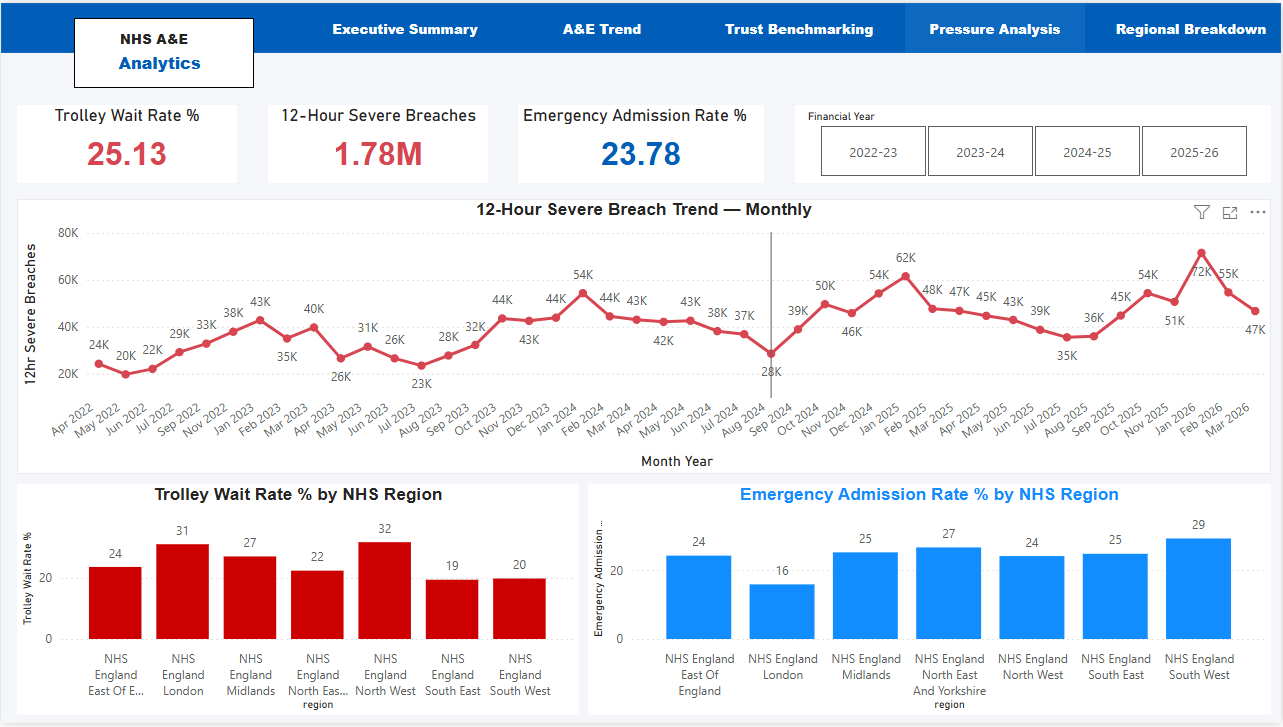

The dashboard page shown, as its layout file describes it:
{"tool":"powerbi","page":{"name":"Pressure Analysis","canvas":[1280,720],"ordinal":3},"visuals":[{"type":"shape","box":[0,0,1280,50],"z":0},{"type":"actionButton","title":"Executive Summary","box":[314,0,180,50],"z":1000},{"type":"shape","box":[73,15,180,70],"z":1000,"group":"g1"},{"type":"actionButton","box":[1100,0,180,50],"z":2000},{"type":"textbox","box":[114,21,90,29],"z":2000,"group":"g1"},{"type":"actionButton","box":[903.5,0,180,50],"z":3000},{"type":"textbox","box":[103,43,111,34],"z":3000,"group":"g1"},{"type":"actionButton","box":[510.5,0,180,50],"z":4000},{"type":"actionButton","box":[708,0,180,50],"z":5000},{"type":"group","id":"g1","title":"Group 1","box":[73,15,180,70],"z":6000},{"type":"cardVisual","title":"Trolley Wait Rate %","fields":{"Data":["_Measures.Trolley Wait Rate %"]},"box":[16,102,220,78],"z":7000},{"type":"cardVisual","title":"12-Hour Severe Breaches","fields":{"Data":["_Measures.12hr Severe Breaches"]},"box":[266.7,102,220,78],"z":8000},{"type":"cardVisual","title":"Emergency Admission Rate %","fields":{"Data":["_Measures.Emergency Admission Rate %"]},"box":[517.3,102,246,78],"z":9000},{"type":"slicer","fields":{"Values":["dim_date.Financial Year"]},"box":[794,102,476,78],"z":10000},{"type":"lineChart","title":"12-Hour Severe Breach Trend — Monthly","fields":{"Category":["dim_date.Month Year"],"Y":["_Measures.12hr Severe Breaches"]},"box":[16,196,1254,275],"z":11000},{"type":"clusteredColumnChart","title":"Trolley Wait Rate % by NHS Region","fields":{"Category":["dim_organisation.region"],"Y":["_Measures.Trolley Wait Rate %"]},"box":[16,481,562,231],"z":12000},{"type":"clusteredColumnChart","title":"Emergency Admission Rate % by NHS Region","fields":{"Category":["dim_organisation.region"],"Y":["_Measures.Emergency Admission Rate %"]},"box":[587,481,683,231],"z":13000}]}

Visuals, with their boxes in screenshot pixels (x1, y1, x2, y2), scaled from the page's 1280x720 canvas onto the 1283x727 screenshot:
shape: box(0, 0, 1282, 50)
"Executive Summary" actionButton: box(315, 0, 495, 50)
shape: box(73, 15, 254, 86)
actionButton: box(1103, 0, 1282, 50)
textbox: box(114, 21, 204, 50)
actionButton: box(906, 0, 1086, 50)
textbox: box(103, 43, 215, 78)
actionButton: box(512, 0, 692, 50)
actionButton: box(710, 0, 890, 50)
"Group 1" group: box(73, 15, 254, 86)
"Trolley Wait Rate %" cardVisual: box(16, 103, 237, 182)
"12-Hour Severe Breaches" cardVisual: box(267, 103, 488, 182)
"Emergency Admission Rate %" cardVisual: box(519, 103, 765, 182)
slicer - dim_date.Financial Year: box(796, 103, 1273, 182)
"12-Hour Severe Breach Trend — Monthly" lineChart: box(16, 198, 1273, 476)
"Trolley Wait Rate % by NHS Region" clusteredColumnChart: box(16, 486, 579, 719)
"Emergency Admission Rate % by NHS Region" clusteredColumnChart: box(588, 486, 1273, 719)
